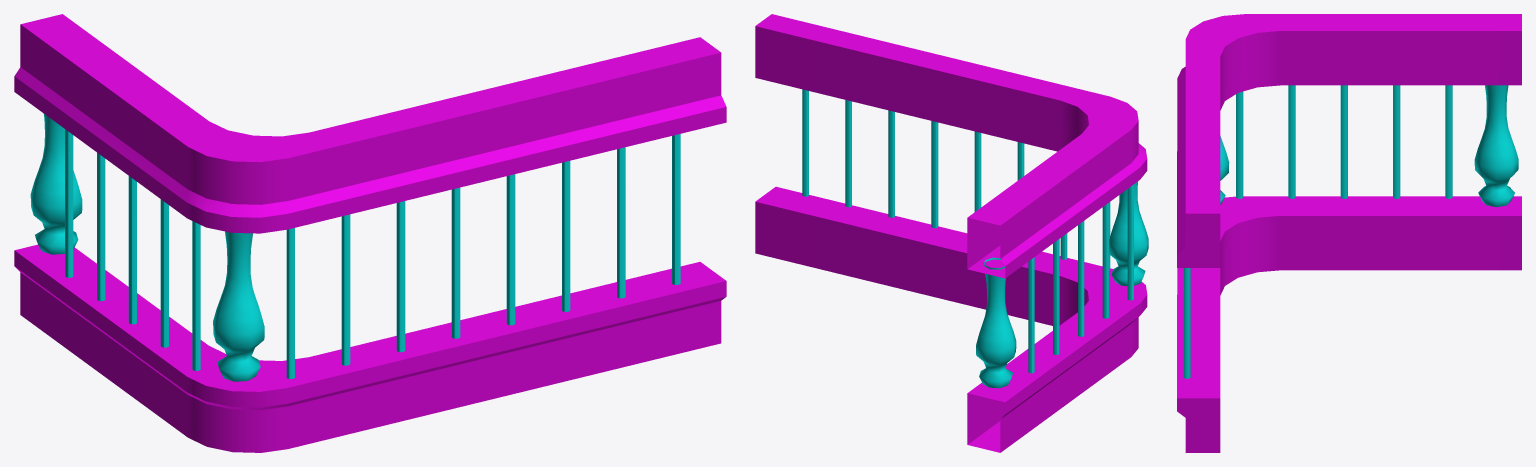
Rendered from balkuni_left_03.fbx.
The picture shows the model from 3 angles, left to right: view 1: azimuth 30°, elevation 25°; view 2: azimuth 150°, elevation 25°; view 3: azimuth 270°, elevation 25°; orthographic projection. The views are drawn at different scales.
Parts seen in each view (by area): view 1: polySurface217, polySurface226, polySurface211, polySurface227, polySurface219, polySurface221, polySurface222, polySurface220, polySurface224, polySurface225, polySurface223, polySurface218 (+5 smaller); view 2: polySurface217, polySurface226, polySurface227, polySurface211, polySurface215, polySurface222, polySurface212, polySurface214, polySurface213, polySurface216, polySurface223, polySurface224 (+2 smaller); view 3: polySurface217, polySurface226, polySurface227, polySurface212, polySurface213, polySurface214, polySurface215, polySurface225, polySurface216.
Part boxes in pixels (<box>): polySurface217: <box>14,14,726,233</box>; polySurface226: <box>14,244,726,452</box>; polySurface211: <box>213,231,264,381</box>; polySurface227: <box>30,114,82,254</box>; polySurface219: <box>341,214,350,365</box>; polySurface221: <box>396,201,405,352</box>; polySurface222: <box>506,174,515,325</box>; polySurface220: <box>451,187,460,338</box>; polySurface224: <box>617,147,625,298</box>; polySurface225: <box>672,134,680,284</box>; polySurface223: <box>562,161,570,311</box>; polySurface218: <box>286,228,294,378</box>; polySurface217: <box>755,14,1147,278</box>; polySurface226: <box>755,186,1147,452</box>; polySurface227: <box>976,257,1016,388</box>; polySurface211: <box>1109,181,1148,285</box>; polySurface215: <box>1102,202,1109,318</box>; polySurface222: <box>931,121,938,228</box>; polySurface212: <box>1028,257,1034,373</box>; polySurface214: <box>1078,221,1084,336</box>; polySurface213: <box>1053,239,1059,354</box>; polySurface216: <box>1127,184,1133,300</box>; polySurface223: <box>888,110,894,217</box>; polySurface224: <box>845,100,851,207</box>; polySurface217: <box>1177,14,1521,267</box>; polySurface226: <box>1177,196,1521,452</box>; polySurface227: <box>1474,85,1518,207</box>; polySurface212: <box>1445,85,1452,198</box>; polySurface213: <box>1393,85,1400,198</box>; polySurface214: <box>1340,85,1347,198</box>; polySurface215: <box>1288,85,1295,198</box>; polySurface225: <box>1183,268,1190,378</box>; polySurface216: <box>1236,91,1243,198</box>.
Bounding box in the file's own units: 277 × 153 × 200.
